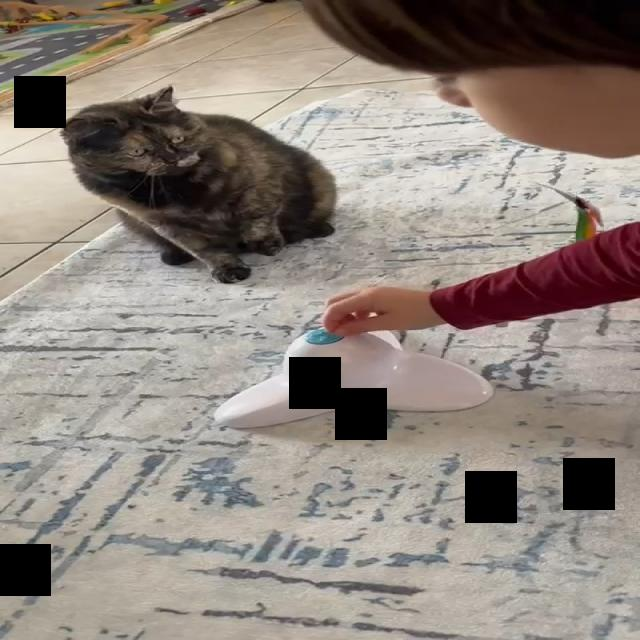authorized: (59, 84, 337, 284)
